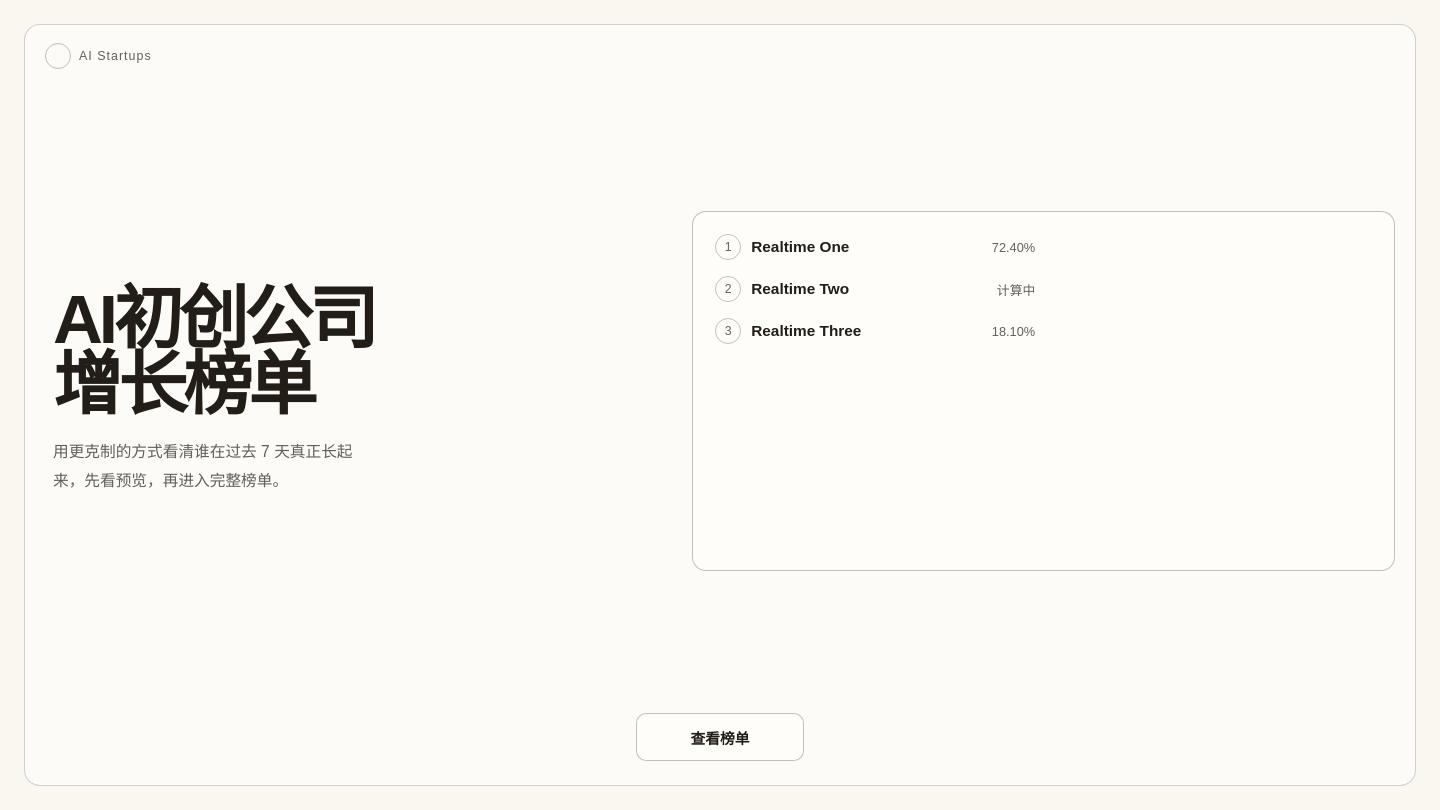
Test: HomePage › fetches startup cards lazily, caches by slug, and uses API rows
This screenshot has width=1440, height=810.
Hover over the button "1 Realtime One 72.40%" at (800, 246), box 715,234 -> 1035,260
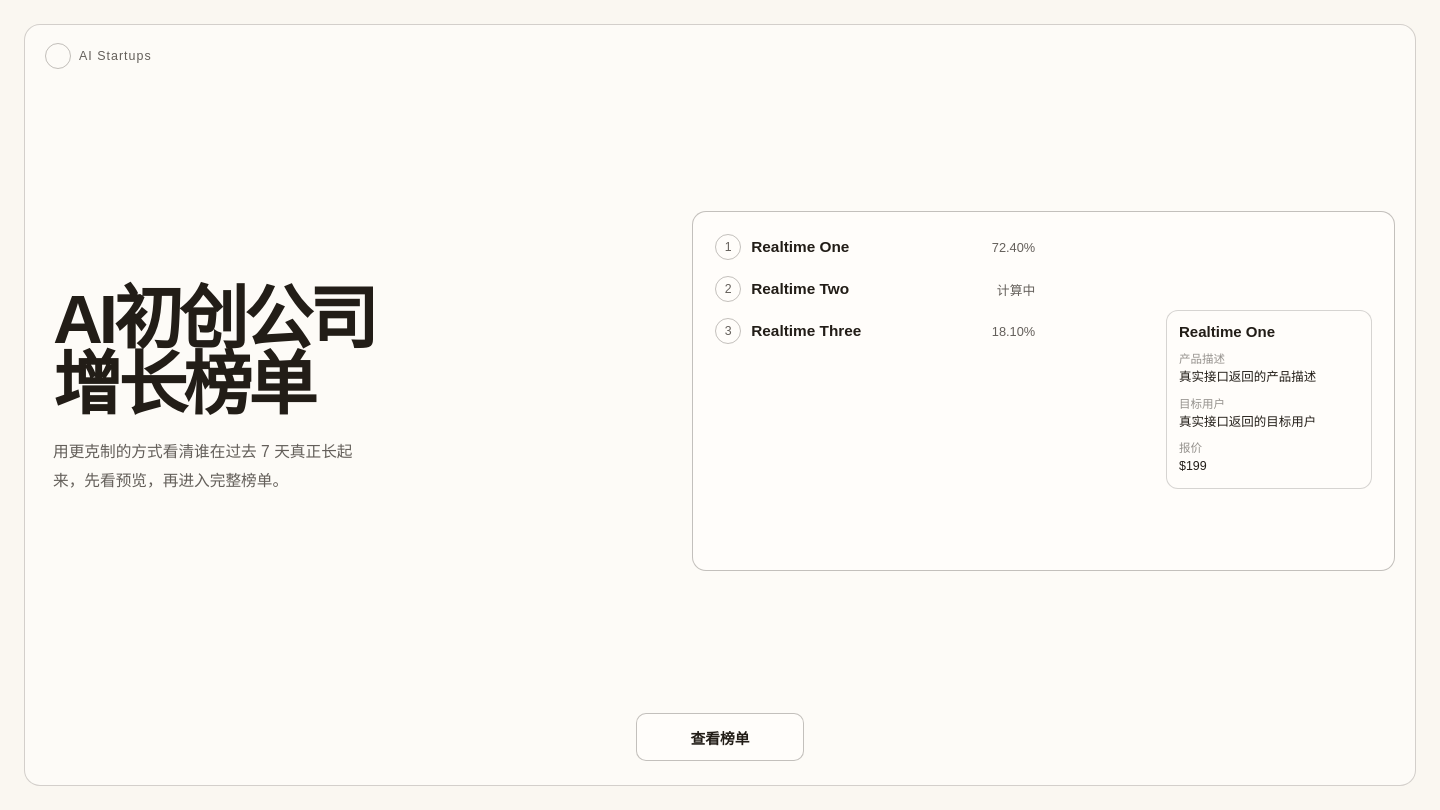
Expected: the text "真实接口返回的产品描述" is shown, 1179,370 -> 1316,384
Expected: the text "真实接口返回的目标用户" is shown, 1179,415 -> 1316,429
Expected: the text "$199" is shown, 1179,459 -> 1207,473
Move the pointer off the button "1 Realtime One 72.40%", box 715,234 -> 1035,260
(page scrolled)
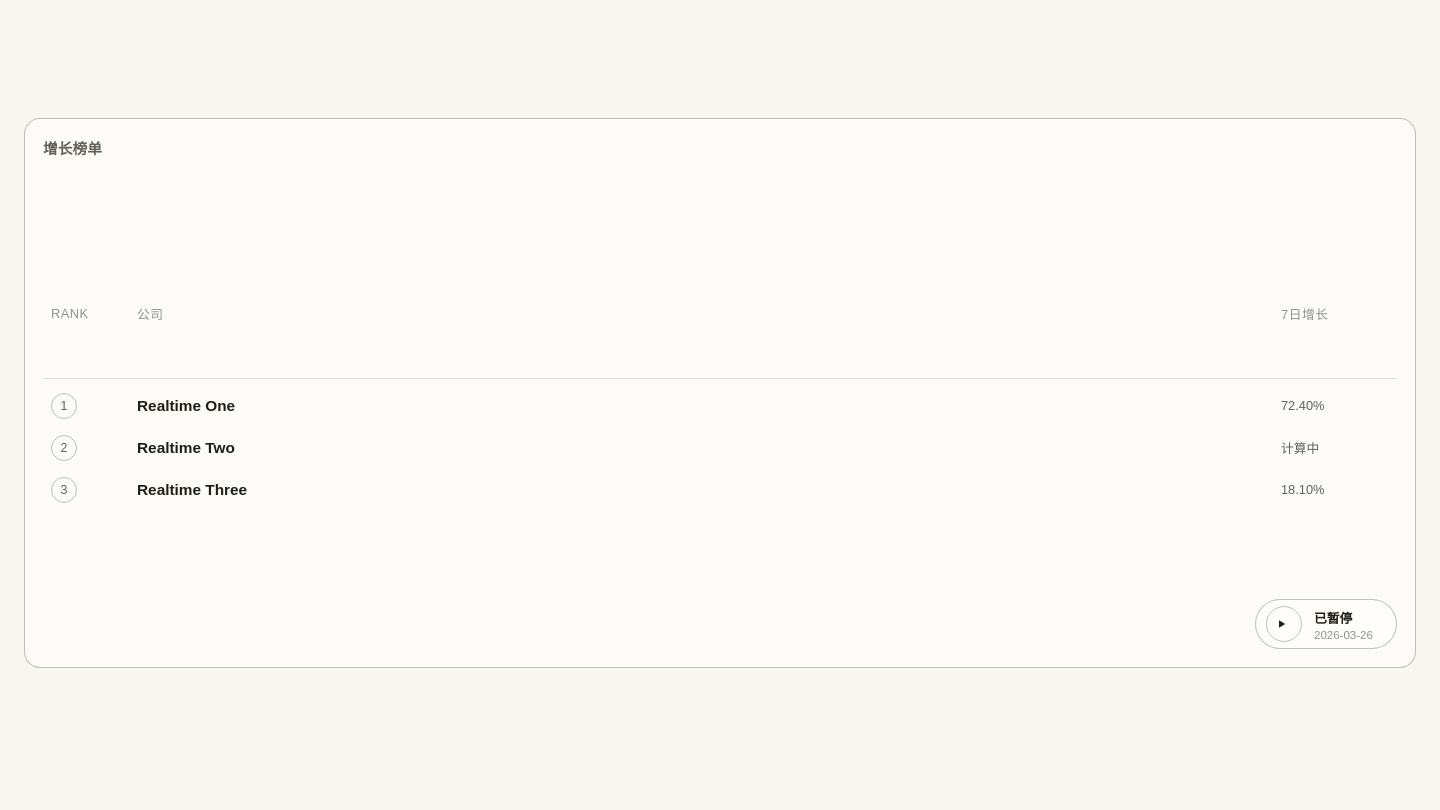
Focus the button "1 Realtime One 72.40%" at (186, 405), box 43,385 -> 1397,427
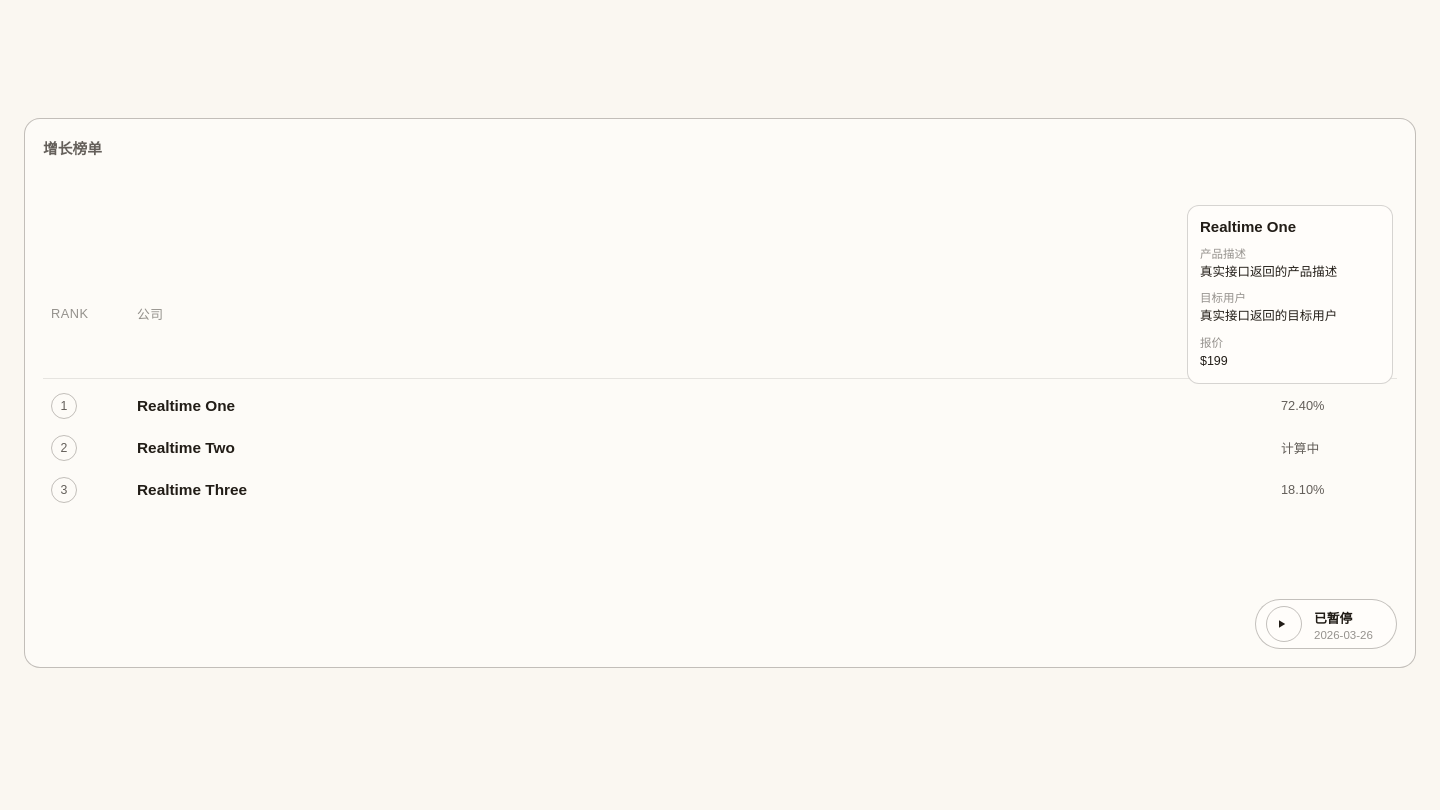
Expected: the text "真实接口返回的产品描述" is shown, 1200,265 -> 1337,279
